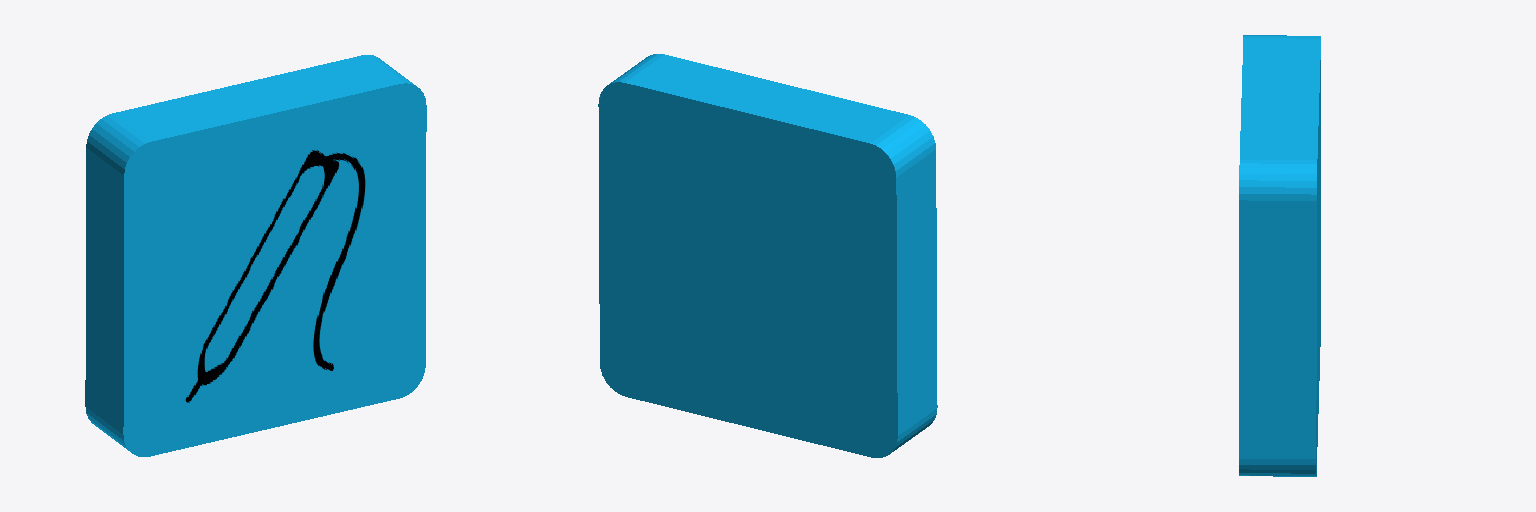
The picture shows the model from 3 angles: view 1: azimuth 30°, elevation 25°; view 2: azimuth 150°, elevation 25°; view 3: azimuth 270°, elevation 25°; orthographic projection.
Bounding box in the file's own units: 5.39 × 5.38 × 1.28.
1 materials, 1 textured.